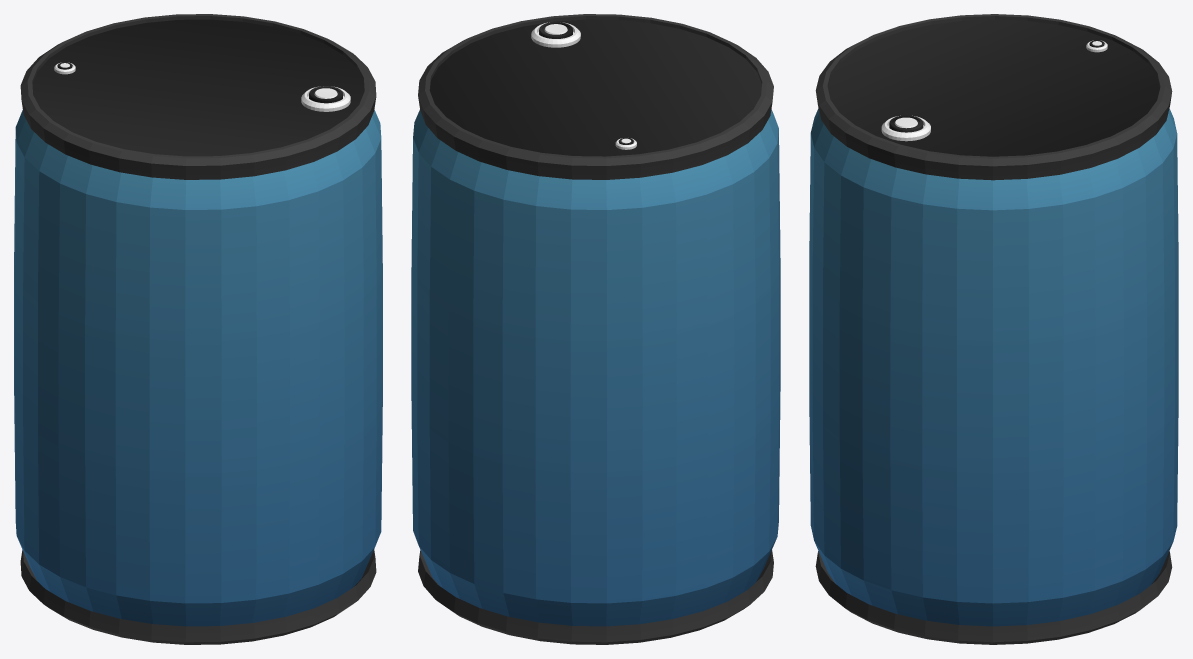
The model's file is Water Barrel #2.fbx.
3 views of the same model, side by side, from view 1: azimuth 30°, elevation 25°; view 2: azimuth 150°, elevation 25°; view 3: azimuth 270°, elevation 25° (orthographic).
Visible parts, largest first — view 1: Water Barrel #2; view 2: Water Barrel #2; view 3: Water Barrel #2.
Part boxes in pixels (bbox=[...]): Water Barrel #2: bbox=[14, 14, 382, 644]; Water Barrel #2: bbox=[411, 14, 780, 644]; Water Barrel #2: bbox=[809, 14, 1178, 644].
Size of the model in its own units: 424 by 289 by 289.
1 material, 1 textured.
